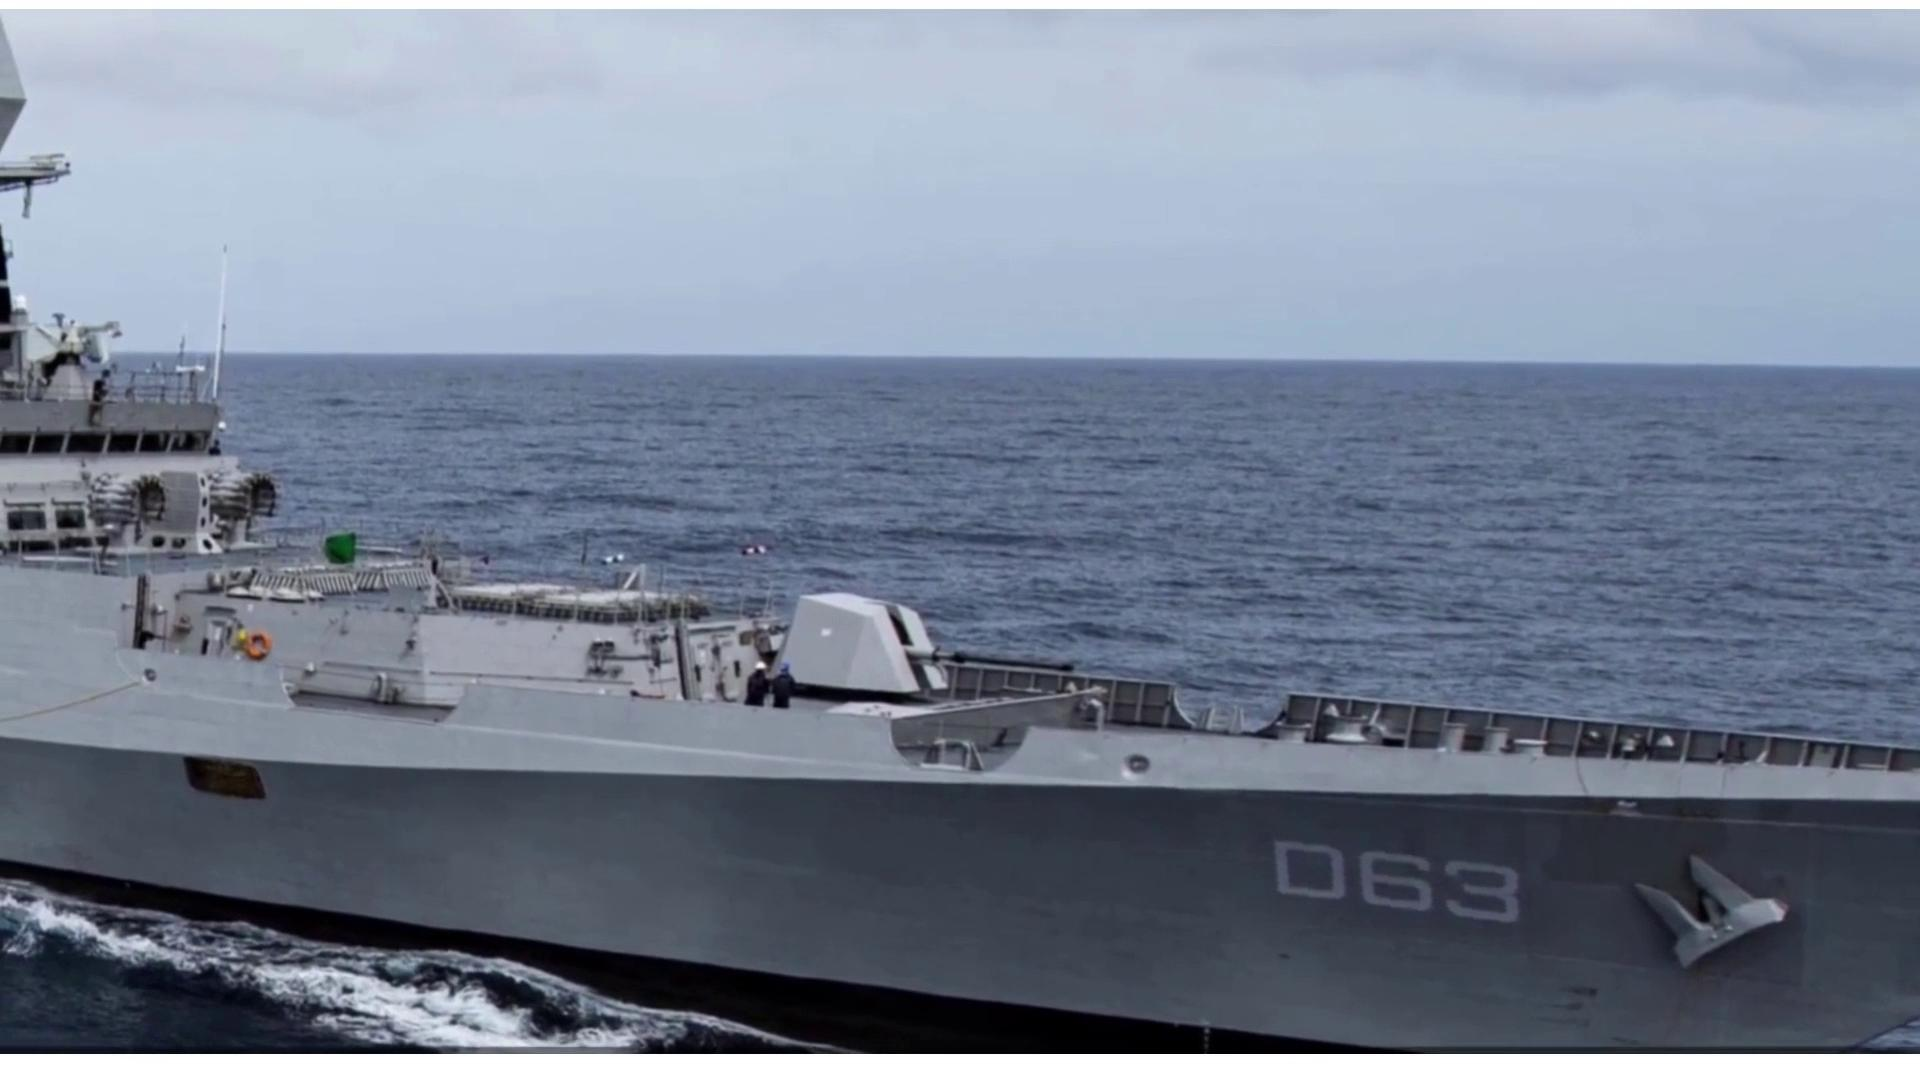OCR: (1262, 832, 1523, 928)
